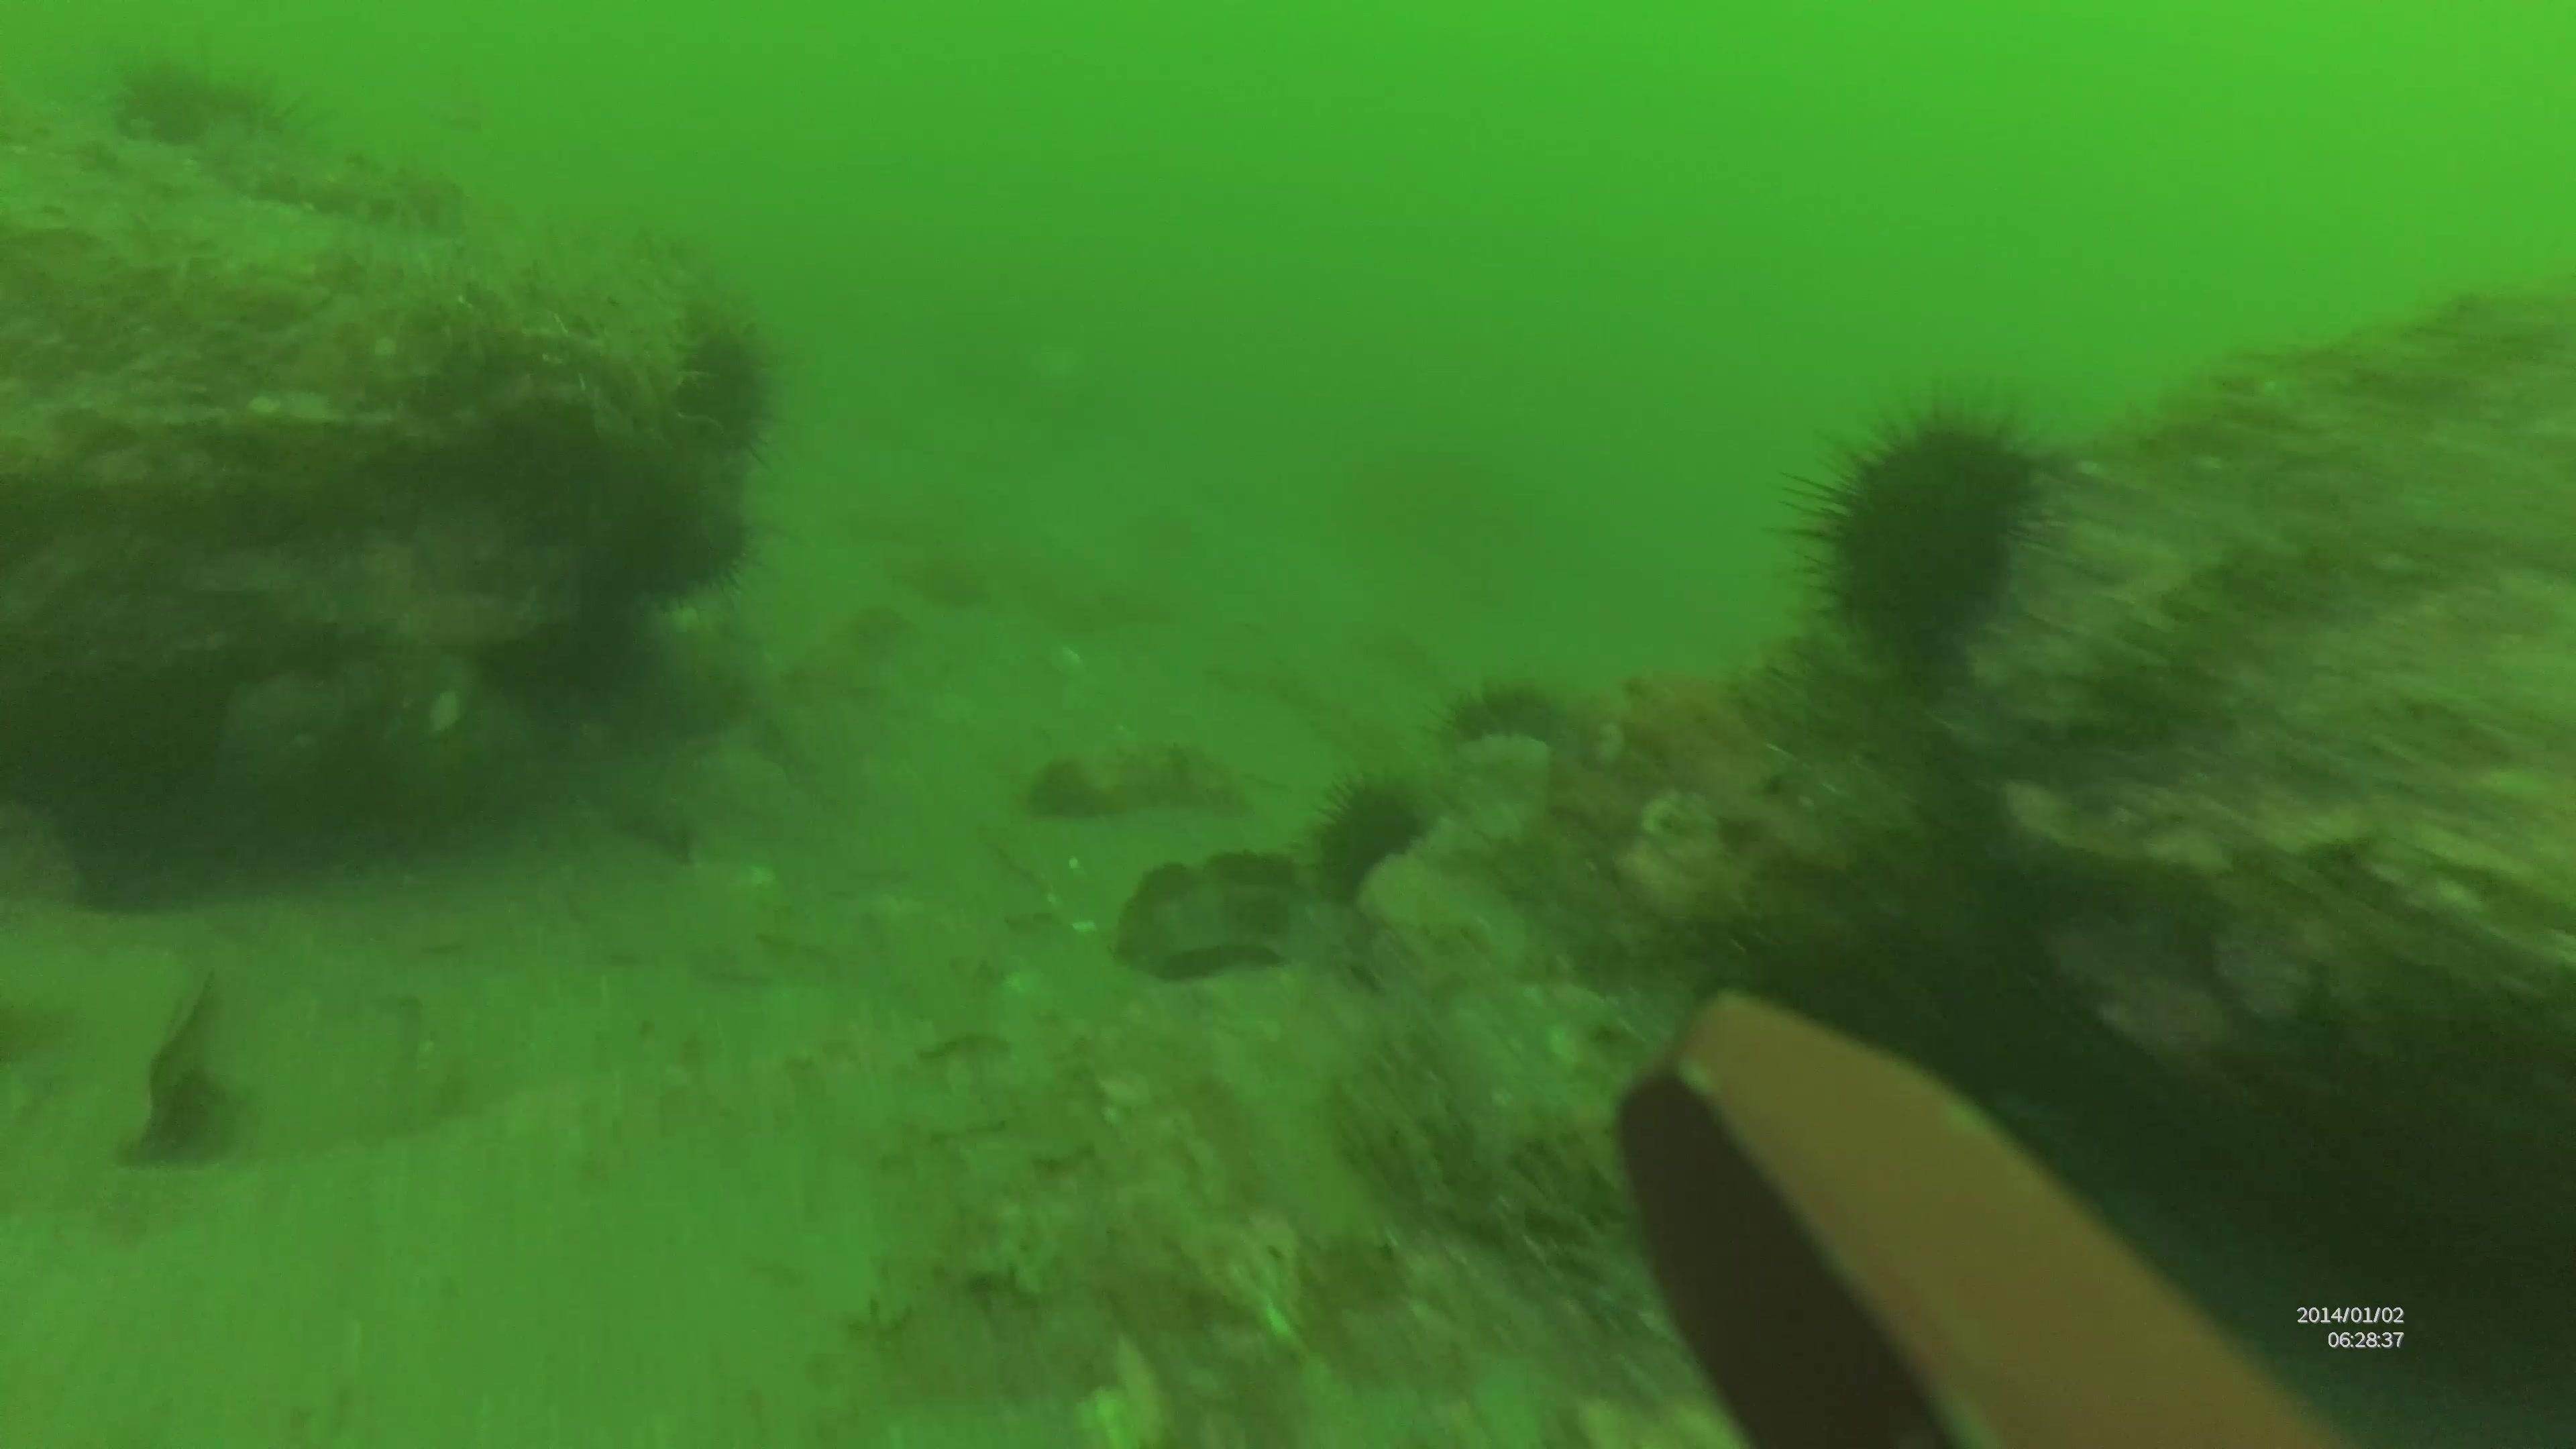echinus: (1776, 389, 2068, 672), (644, 303, 789, 476), (104, 48, 317, 161), (1302, 768, 1435, 908), (1440, 669, 1596, 770)
holothurian: (157, 103, 469, 239)
